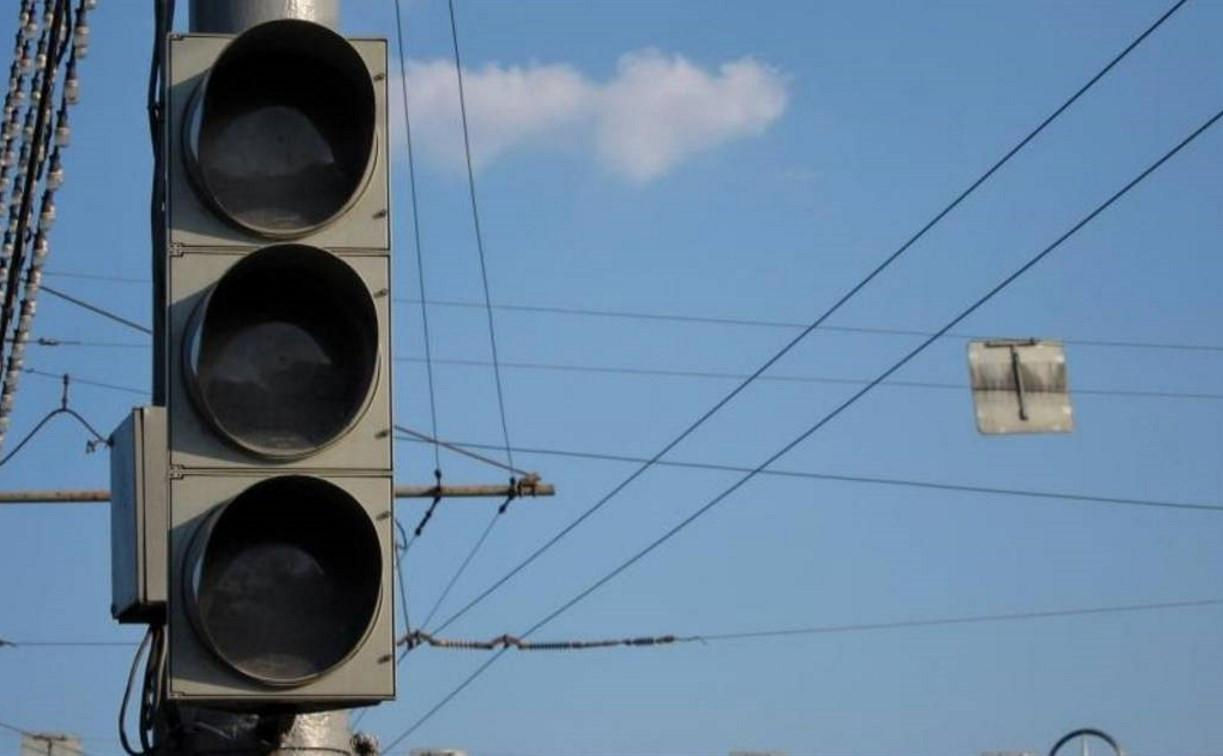off traffic light: (167, 20, 394, 711)
